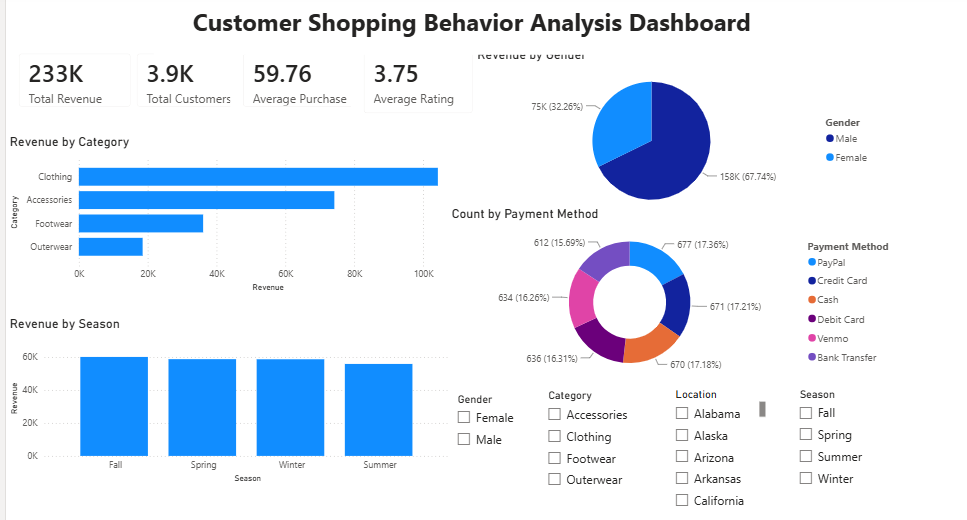

What the dashboard file says about the page in this screenshot:
{"tool":"powerbi","page":{"name":"Page 1","canvas":[1280,720],"ordinal":0},"visuals":[{"type":"cardVisual","fields":{"Data":["Sum(cleaned_customer_data.Purchase Amount (USD))","Count(cleaned_customer_data.Customer ID)"]},"box":[0,63.5,340.8,105.8],"z":0},{"type":"cardVisual","fields":{"Data":["Avg(cleaned_customer_data.Purchase Amount (USD))"]},"box":[298.5,63.5,196.9,105.8],"z":1000},{"type":"cardVisual","fields":{"Data":["Avg(cleaned_customer_data.Review Rating)"]},"box":[459.3,55,179.9,122.8],"z":2000},{"type":"clusteredBarChart","fields":{"Category":["cleaned_customer_data.Category"],"Y":["Sum(cleaned_customer_data.Purchase Amount (USD))"]},"box":[0,188.4,620.2,213.8],"z":3000},{"type":"clusteredColumnChart","fields":{"Category":["cleaned_customer_data.Season"],"Y":["Sum(cleaned_customer_data.Purchase Amount (USD))"]},"box":[0,429.7,596.9,226.5],"z":4000},{"type":"pieChart","fields":{"Category":["cleaned_customer_data.Gender"],"Y":["Sum(cleaned_customer_data.Purchase Amount (USD))"]},"box":[622.3,72,539.8,230.7],"z":5000},{"type":"donutChart","fields":{"Category":["cleaned_customer_data.Payment Method"],"Y":["CountNonNull(cleaned_customer_data.Customer ID)"]},"box":[588.5,283.7,607.5,237.1],"z":6000},{"type":"slicer","fields":{"Values":["cleaned_customer_data.Gender"]},"box":[588.5,527.1,120.7,179.9],"z":7000},{"type":"textbox","box":[196.9,10.6,846.7,72],"z":7001},{"type":"slicer","fields":{"Values":["cleaned_customer_data.Category"]},"box":[709.1,522.8,150.3,184.2],"z":7002},{"type":"slicer","fields":{"Values":["cleaned_customer_data.Location"]},"box":[878.5,520.7,137.6,171.5],"z":7003},{"type":"slicer","fields":{"Values":["cleaned_customer_data.Season"]},"box":[1043.6,520.7,131.2,171.5],"z":7004}]}

Visuals, with their boxes on the page's 1280x720 design canvas (x1, y1, x2, y2). These are canvas units, not pixel positions in the 967x520 screenshot, which may show the page scaled, cropped or inside an application window:
cardVisual - Sum(cleaned_customer_data.Purchase Amount (USD)) x Count(cleaned_customer_data.Customer ID): <box>0,64,341,169</box>
cardVisual - Avg(cleaned_customer_data.Purchase Amount (USD)): <box>298,64,495,169</box>
cardVisual - Avg(cleaned_customer_data.Review Rating): <box>459,55,639,178</box>
clusteredBarChart - cleaned_customer_data.Category x Sum(cleaned_customer_data.Purchase Amount (USD)): <box>0,188,620,402</box>
clusteredColumnChart - cleaned_customer_data.Season x Sum(cleaned_customer_data.Purchase Amount (USD)): <box>0,430,597,656</box>
pieChart - cleaned_customer_data.Gender x Sum(cleaned_customer_data.Purchase Amount (USD)): <box>622,72,1162,303</box>
donutChart - cleaned_customer_data.Payment Method x CountNonNull(cleaned_customer_data.Customer ID): <box>588,284,1196,521</box>
slicer - cleaned_customer_data.Gender: <box>588,527,709,707</box>
textbox: <box>197,11,1044,83</box>
slicer - cleaned_customer_data.Category: <box>709,523,859,707</box>
slicer - cleaned_customer_data.Location: <box>878,521,1016,692</box>
slicer - cleaned_customer_data.Season: <box>1044,521,1175,692</box>
